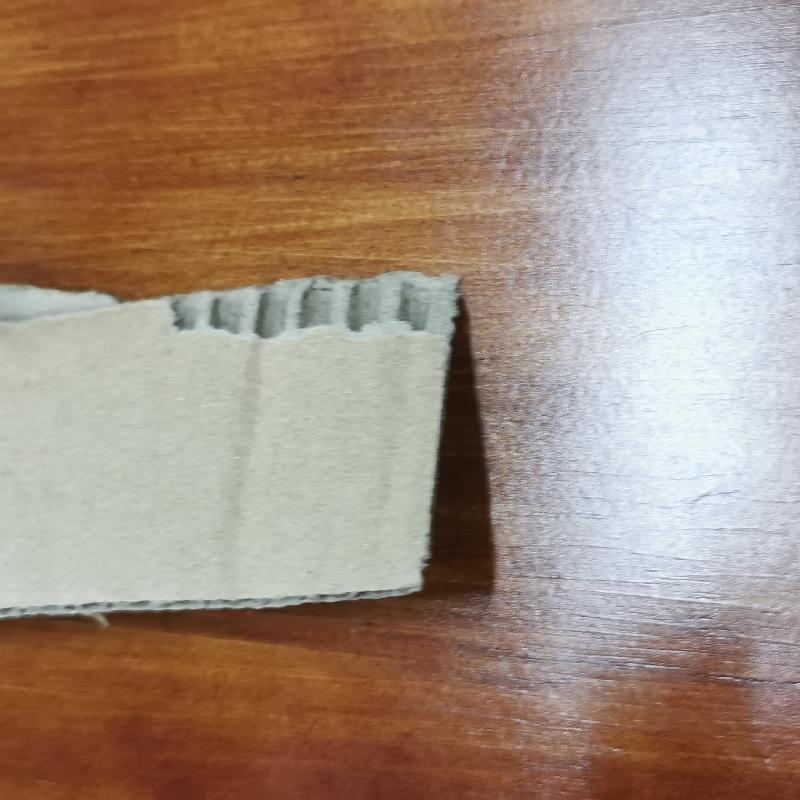boxes: (0, 267, 465, 621)
